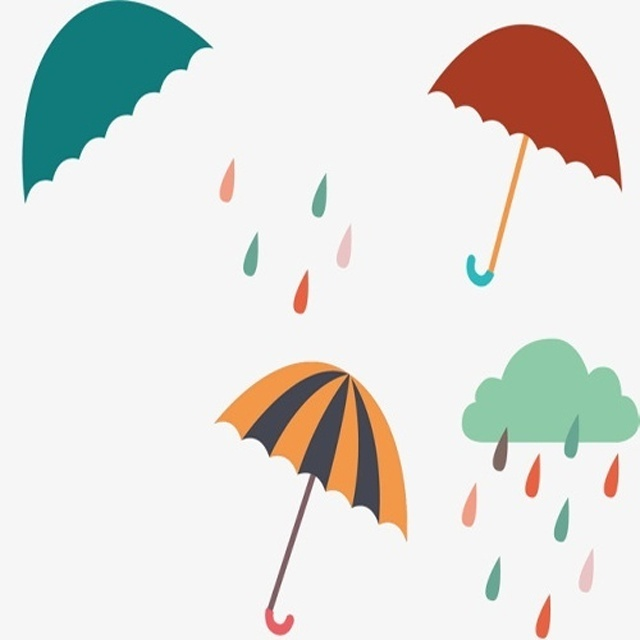umbrella: (215, 358, 413, 640), (424, 21, 625, 293)
